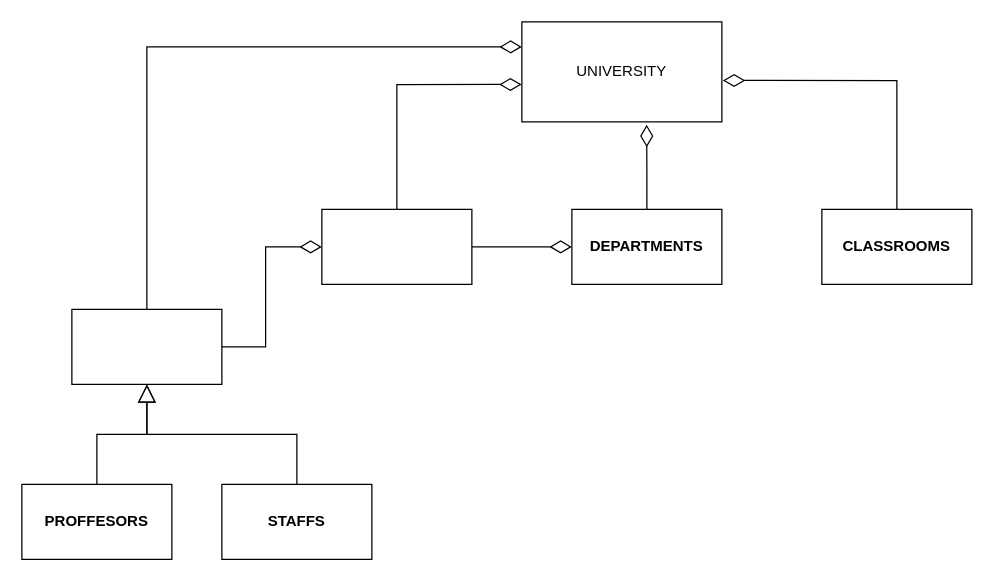
Some shapes in this 994 by 581 pixel diagram are drawn without their labels. The shapes that lost their labels are listed below. From the top down, each one's centre as x and y in pixels, then its label:
At (x=396, y=246): "WORK OFFICES".
At (x=146, y=346): "EMPLOYEES".
